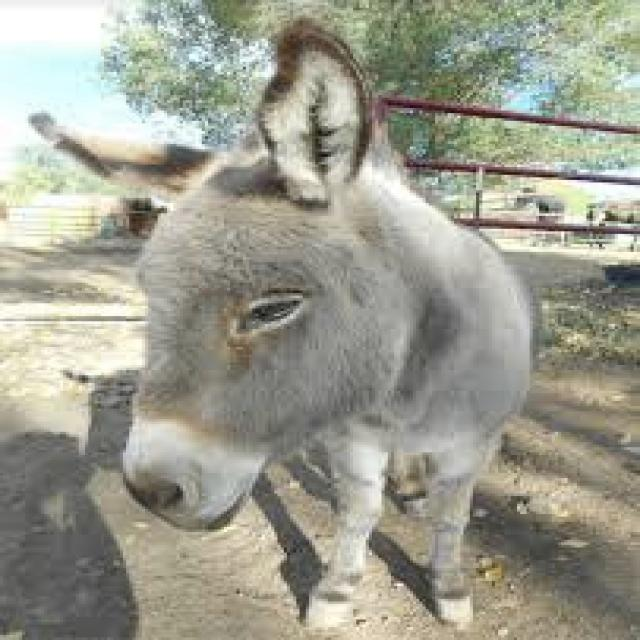donkey: (28, 18, 527, 627)
